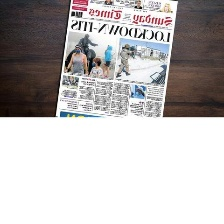news_paper: (49, 0, 182, 118)
